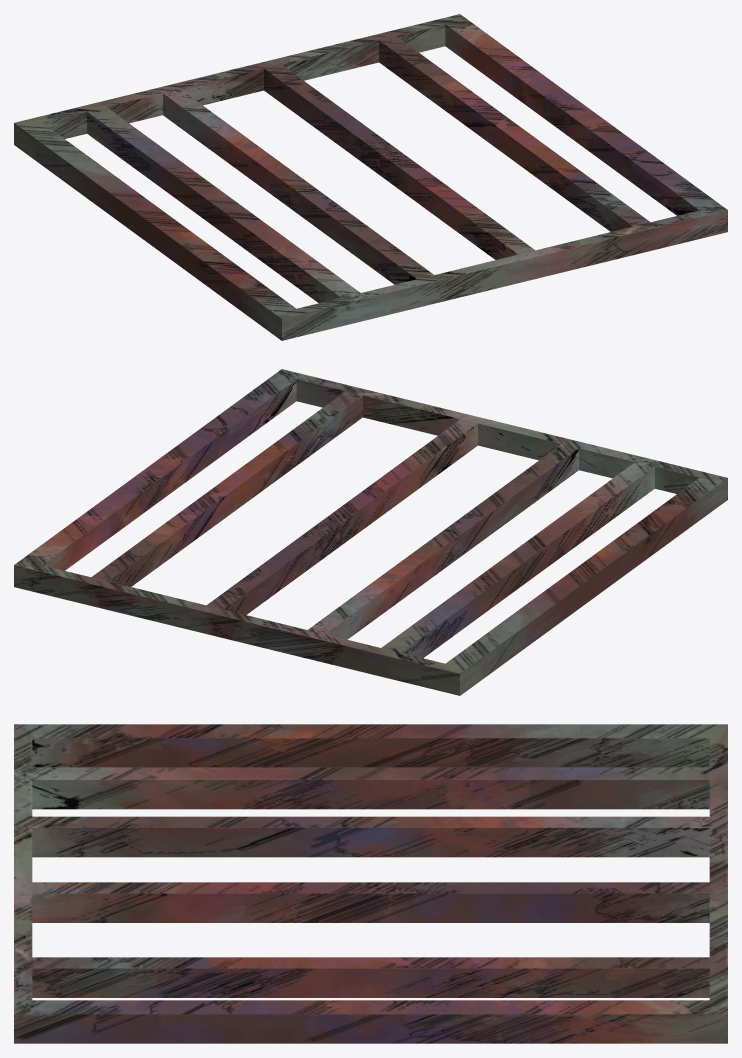
Rendered from Rejilla.fbx.
3 renders of one model, top to bottom at view 1: azimuth 30°, elevation 25°; view 2: azimuth 150°, elevation 25°; view 3: azimuth 270°, elevation 25°, orthographic. The views are drawn at different scales.
Parts seen in each view (by area): view 1: Rejilla_Low; view 2: Rejilla_Low; view 3: Rejilla_Low.
Part boxes in pixels (box(x1,y1,x2,y2)): Rejilla_Low: box(14, 14, 727, 340); Rejilla_Low: box(14, 369, 727, 695); Rejilla_Low: box(14, 724, 727, 1043).
Bounding box in the file's own units: 1.12 × 0.0527 × 1.16.
1 material, 1 textured.
